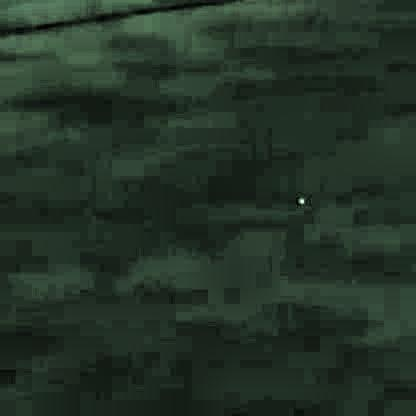golfball: (295, 195, 305, 202)
